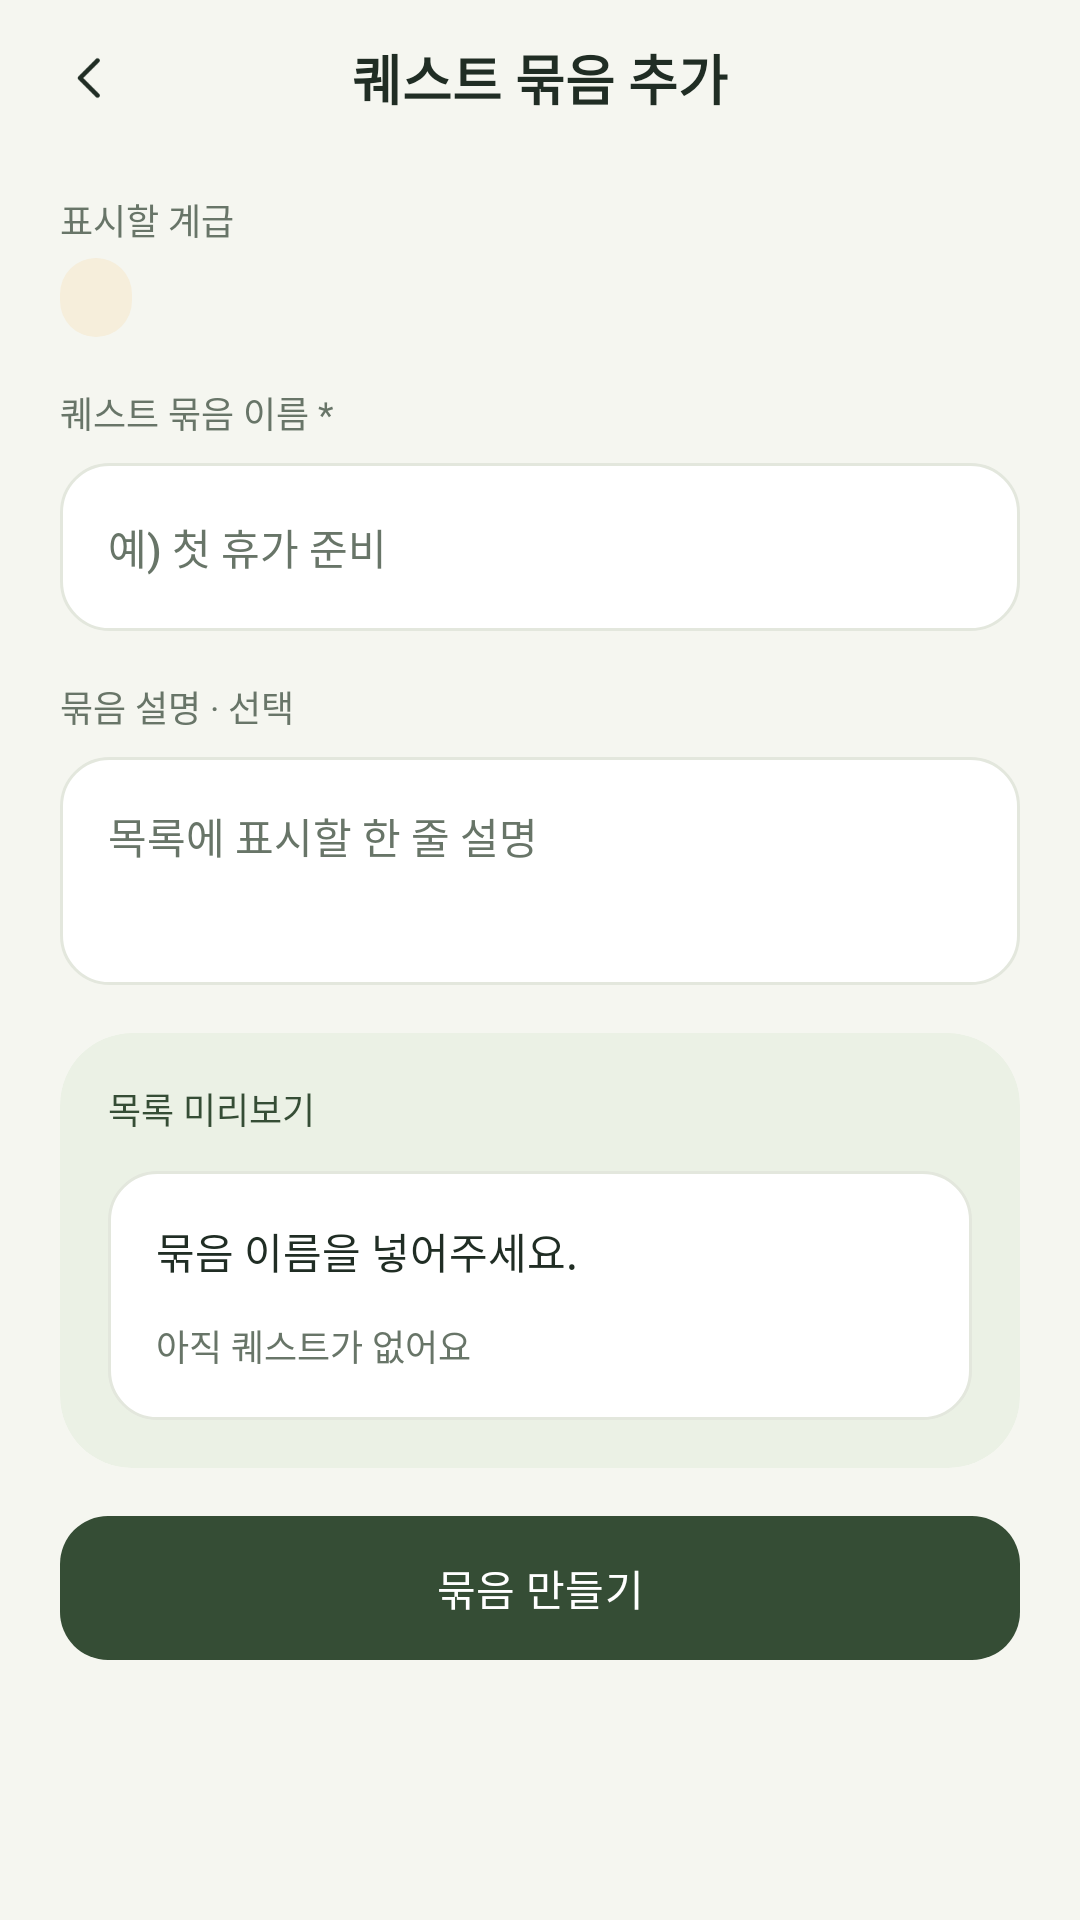

Named icons in this screenshot (1080px x 1920px) and their bounding boxes, (x1,y1,x2,y2):
뒤로 가기: (77,58,100,98)
